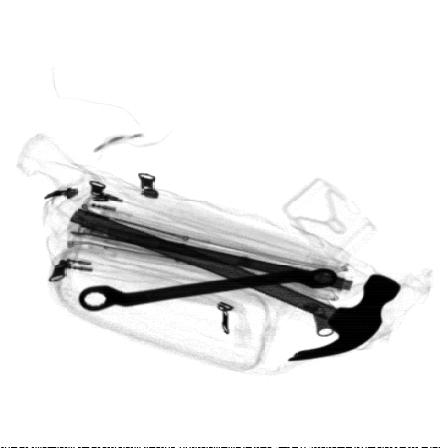Hammer: (67, 206, 405, 363)
Wrench: (77, 267, 339, 311)
